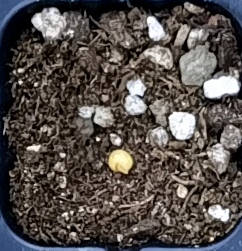chilli seed: (107, 149, 133, 174)
